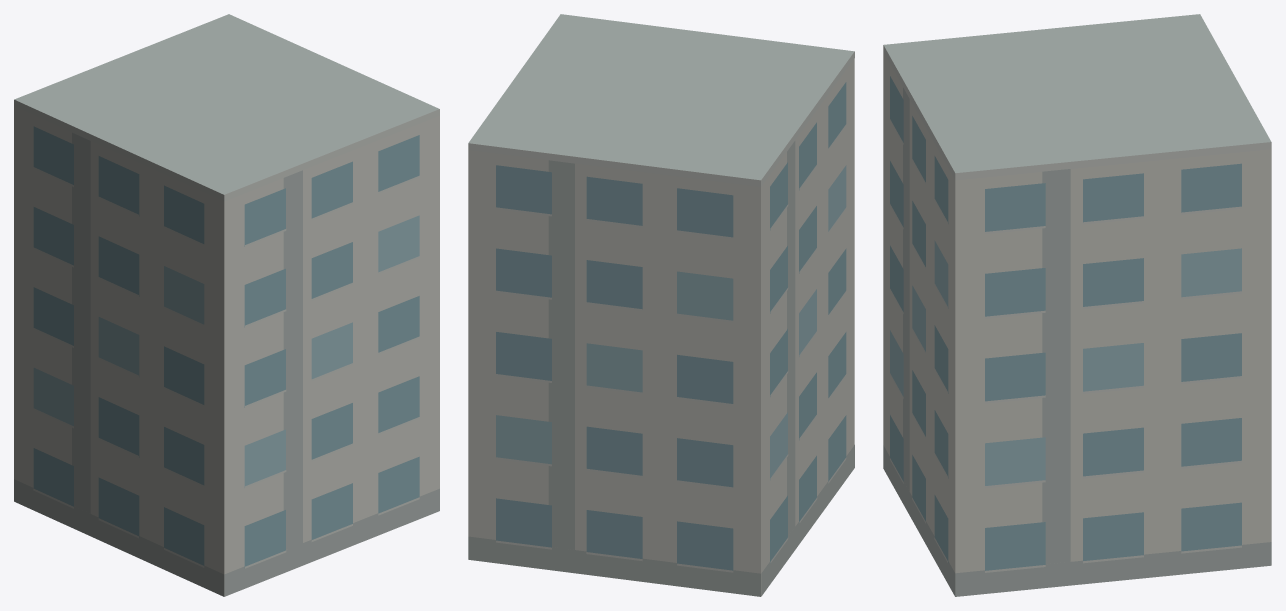
File: survey-upis-32809259.glb
3 renders of one model, left to right at view 1: azimuth 30°, elevation 25°; view 2: azimuth 150°, elevation 25°; view 3: azimuth 270°, elevation 25°, orthographic. The views are drawn at different scales.
Visible parts, largest first — view 1: survey-upis-32809259.tmp; view 2: survey-upis-32809259.tmp; view 3: survey-upis-32809259.tmp.
Boxes of the visible parts, x1,y1,x2,y2 form: survey-upis-32809259.tmp: [14, 14, 439, 596]; survey-upis-32809259.tmp: [468, 14, 854, 596]; survey-upis-32809259.tmp: [883, 14, 1271, 596].
Size of the model in its own units: 11.82 by 14.65 by 12.17.
